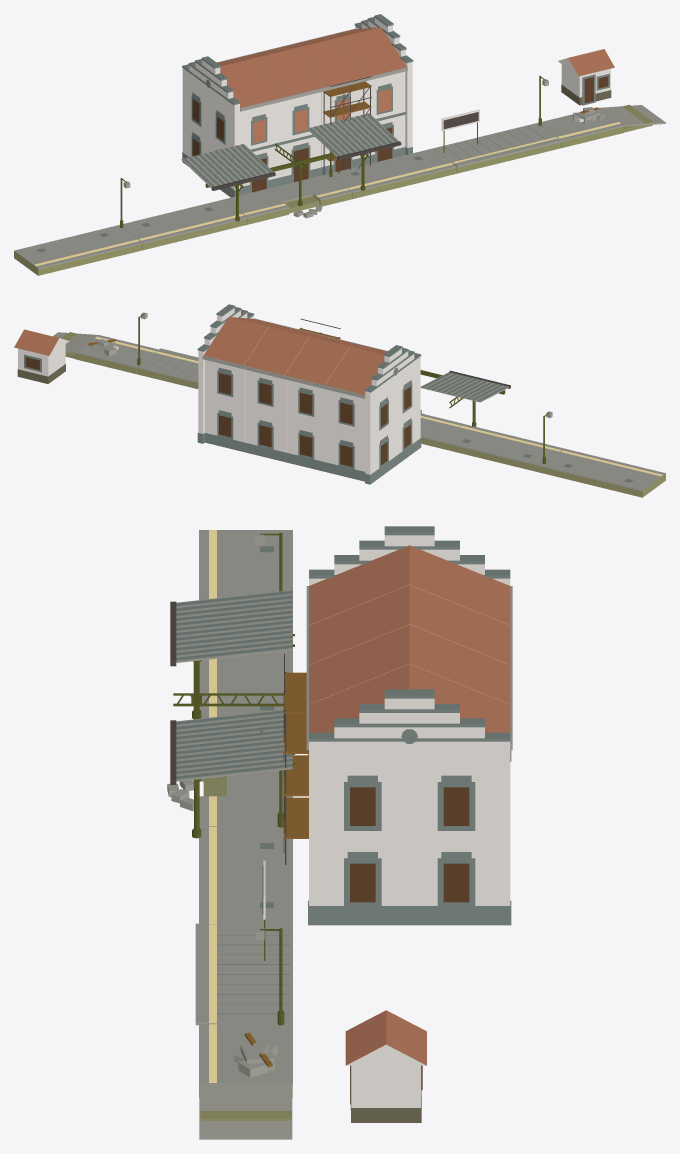
File: SM_EstacionNules_v4_LOD0.fbx
3 views of the same model, one above another, from view 1: azimuth 30°, elevation 25°; view 2: azimuth 150°, elevation 25°; view 3: azimuth 270°, elevation 25° (orthographic). The views are drawn at different scales.
Parts seen in each view (by area): view 1: SM_bloques.estacion_nules_v4_LOD0; view 2: SM_bloques.estacion_nules_v4_LOD0; view 3: SM_bloques.estacion_nules_v4_LOD0.
Boxes of the visible parts, x1,y1,x2,y2 form: SM_bloques.estacion_nules_v4_LOD0: (14, 14, 665, 275); SM_bloques.estacion_nules_v4_LOD0: (14, 304, 665, 497); SM_bloques.estacion_nules_v4_LOD0: (167, 526, 512, 1139).
Bounding box in the file's own units: 59.99 × 10.96 × 14.75.
